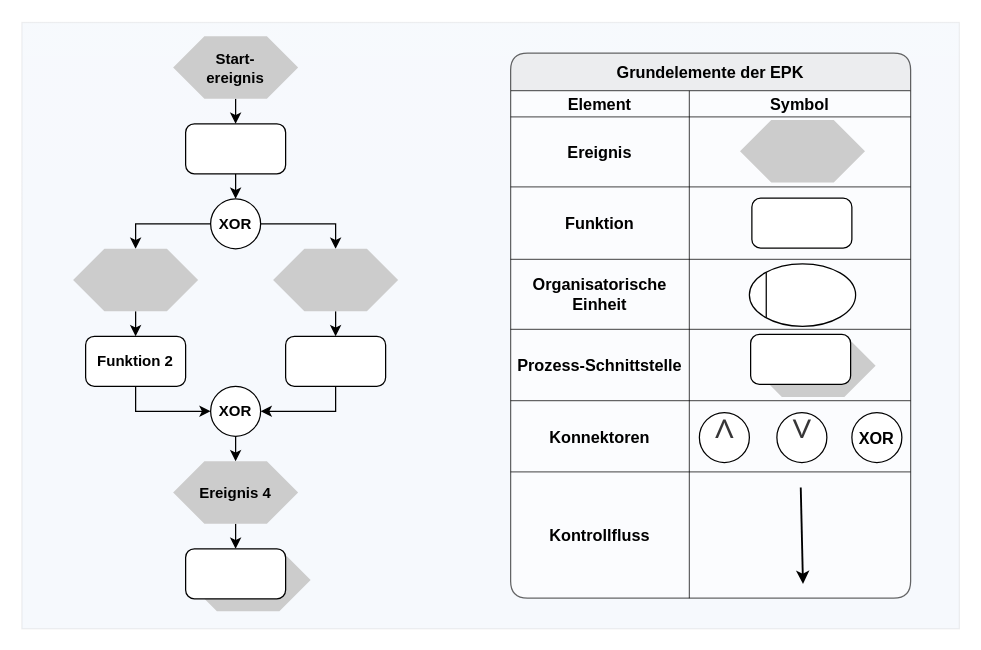
This 981x650 diagram has some shape labels left out. The box of each missing label's shape, as (x1, y1, x2, y2) in pixels:
Ereignis 2: (72, 248, 198, 311)
Ereignis 3: (272, 248, 398, 311)
Funktion 1: (184, 122, 286, 174)
Funktion 3: (284, 335, 386, 386)
Funktion 4: (184, 548, 286, 599)
